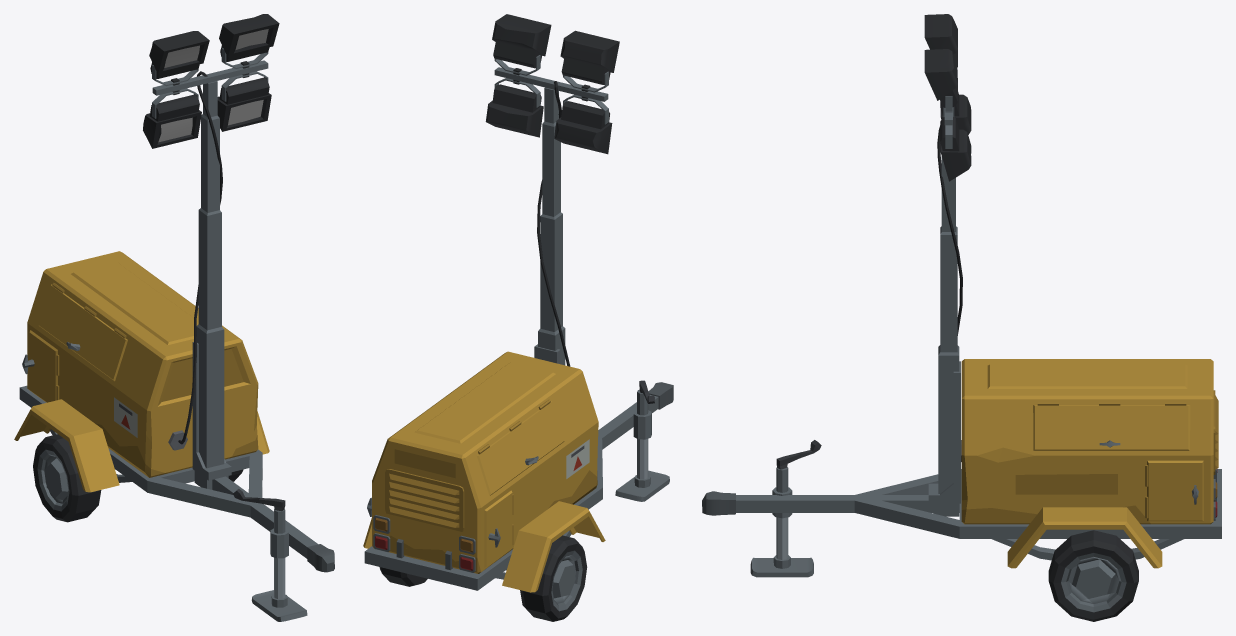
Rendered from SM_Prop_Floodlights_01.fbx.
The picture shows the model from 3 angles, left to right: view 1: azimuth 30°, elevation 25°; view 2: azimuth 150°, elevation 25°; view 3: azimuth 270°, elevation 25°; orthographic projection. The views are drawn at different scales.
Parts seen in each view (by area): view 1: SM_Prop_Floodlights_01; view 2: SM_Prop_Floodlights_01; view 3: SM_Prop_Floodlights_01.
Boxes of the visible parts, x1,y1,x2,y2 form: SM_Prop_Floodlights_01: (14, 14, 334, 621); SM_Prop_Floodlights_01: (363, 14, 673, 621); SM_Prop_Floodlights_01: (702, 14, 1221, 621).
Size of the model in its own units: 142 by 394 by 346.
